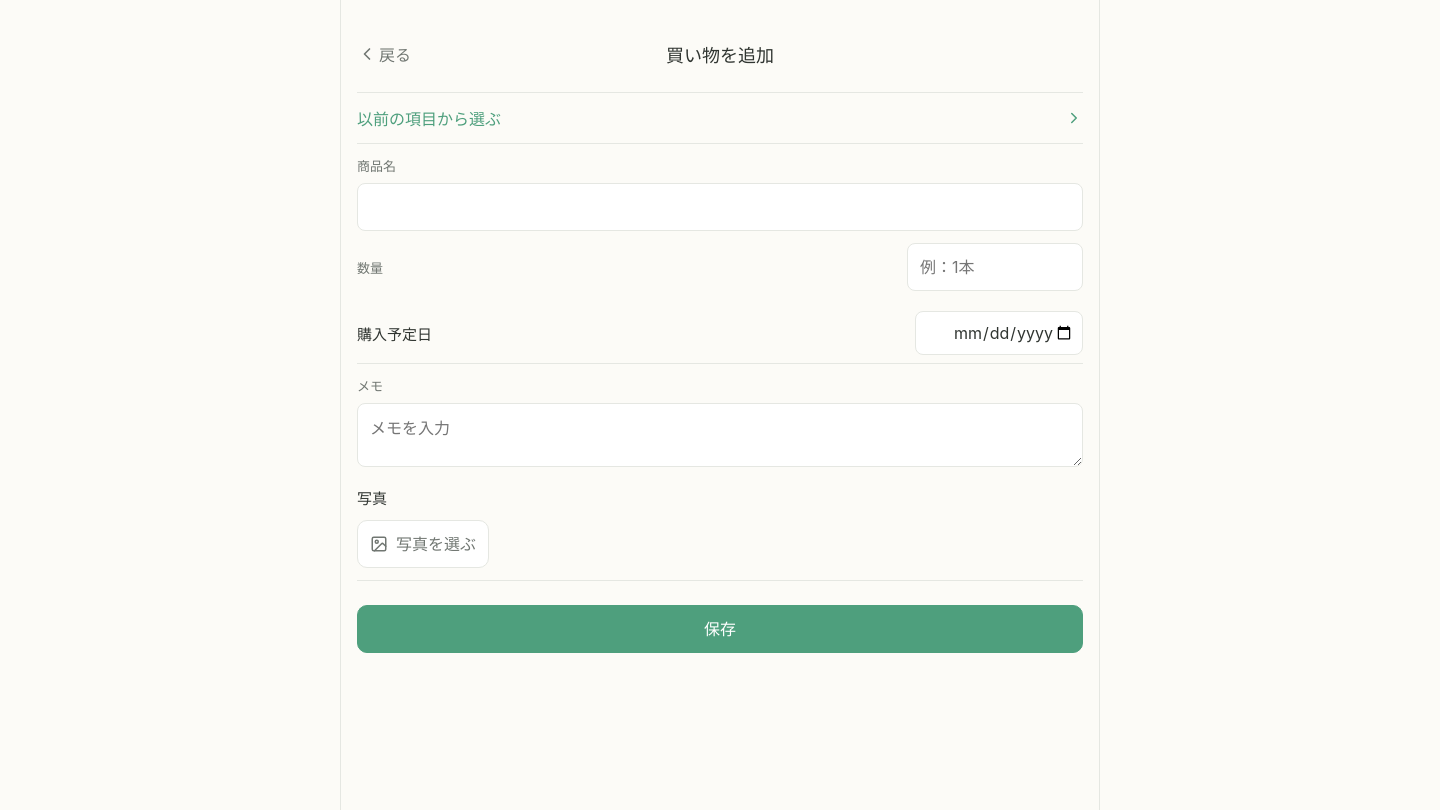
Test: App shopping UI › prefills shopping forms from recent items and templates without reusing image inputs
Click the button "以前の項目から選ぶ" at (429, 119), box [357,92,1083,144]
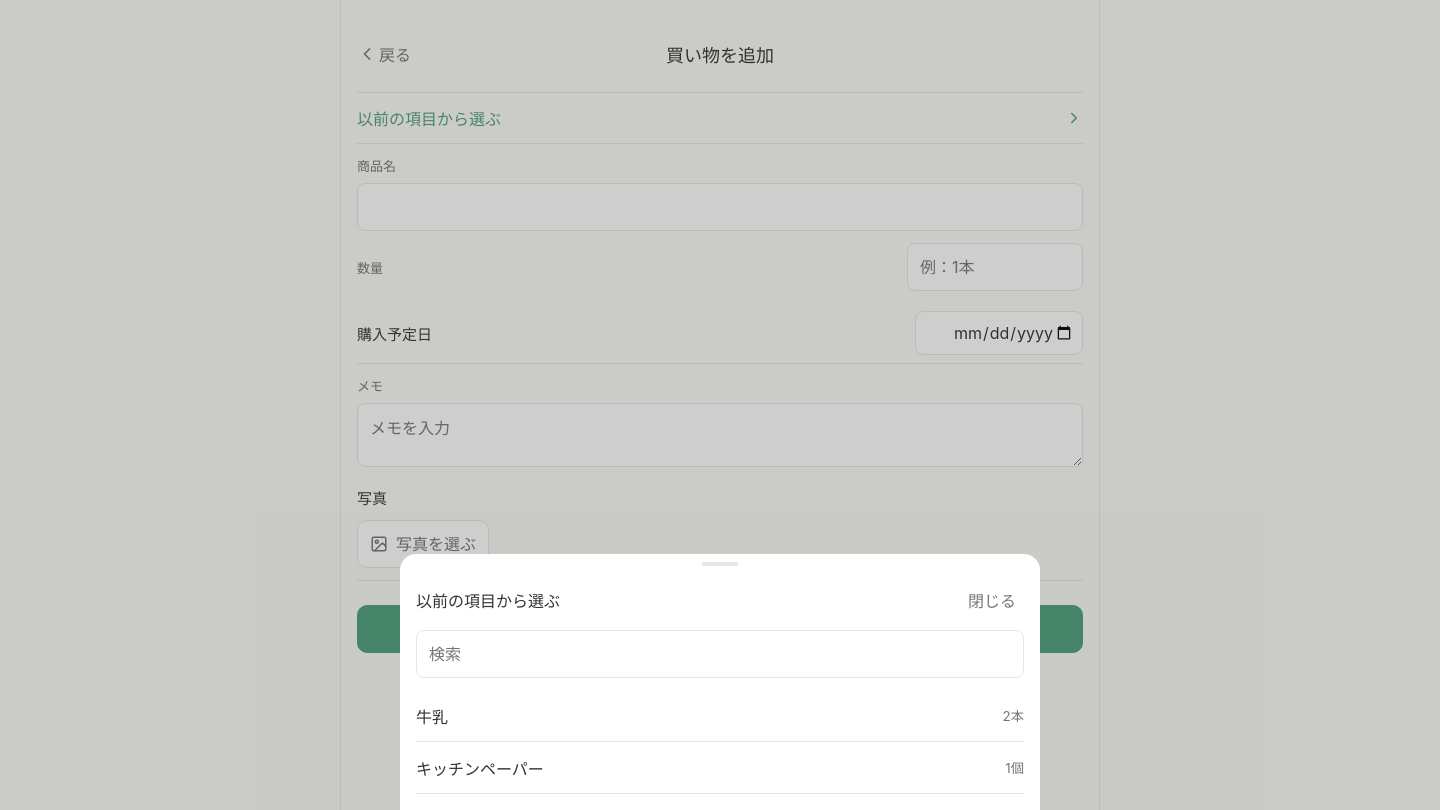
Check: the heading "以前の項目から選ぶ" is shown, box [416,588,560,612]
Click the button "牛乳 2本" at (432, 716), box [416,690,1024,742]
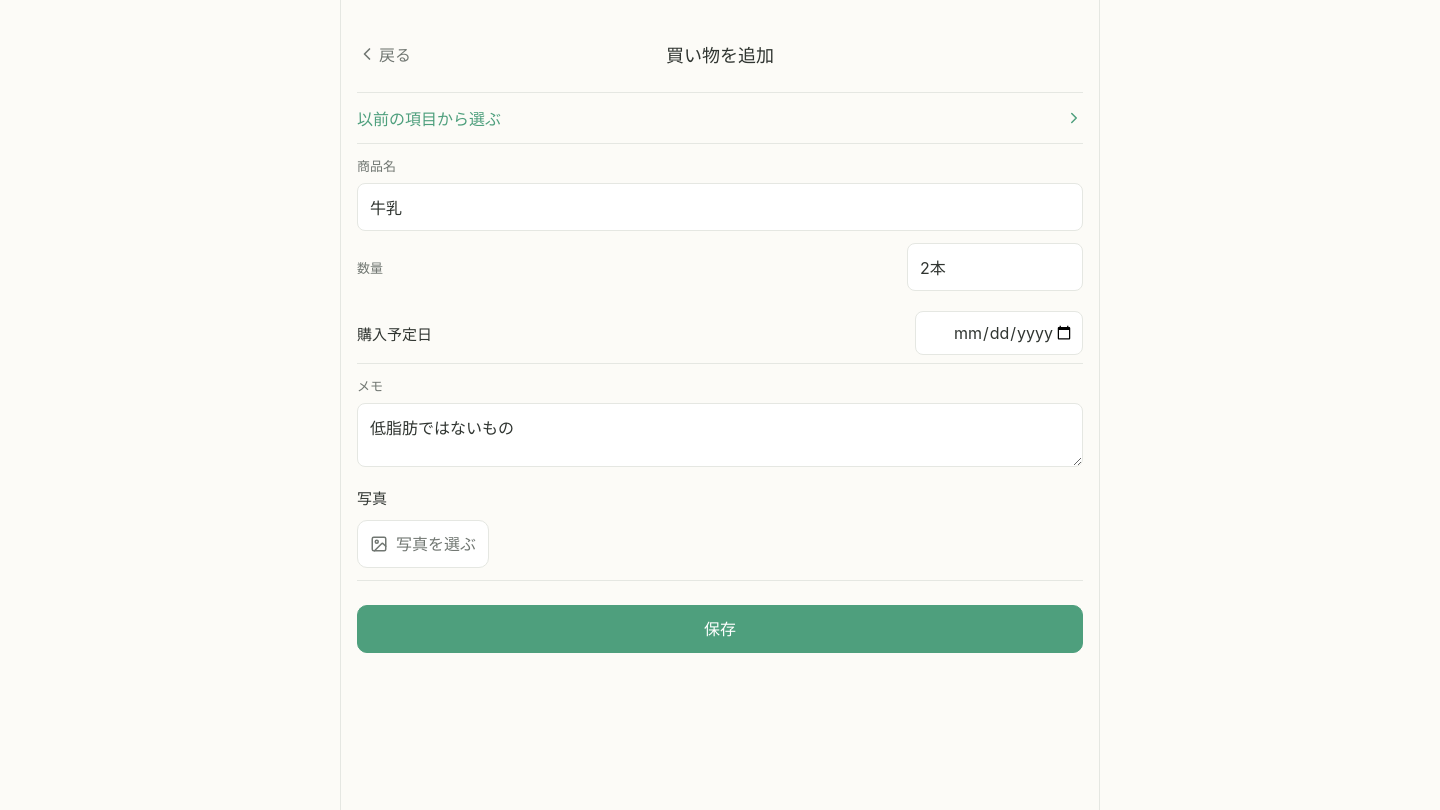
Check: the field with id "shopping-name" holds "牛乳", box [357,183,1083,231]
Check: the field with id "shopping-quantity" holds "2本", box [907,243,1083,291]
Check: the text box with id "shopping-note" holds "低脂肪ではないもの", box [357,403,1083,467]
Click the button "以前の項目から選ぶ" at (429, 119), box [357,92,1083,144]
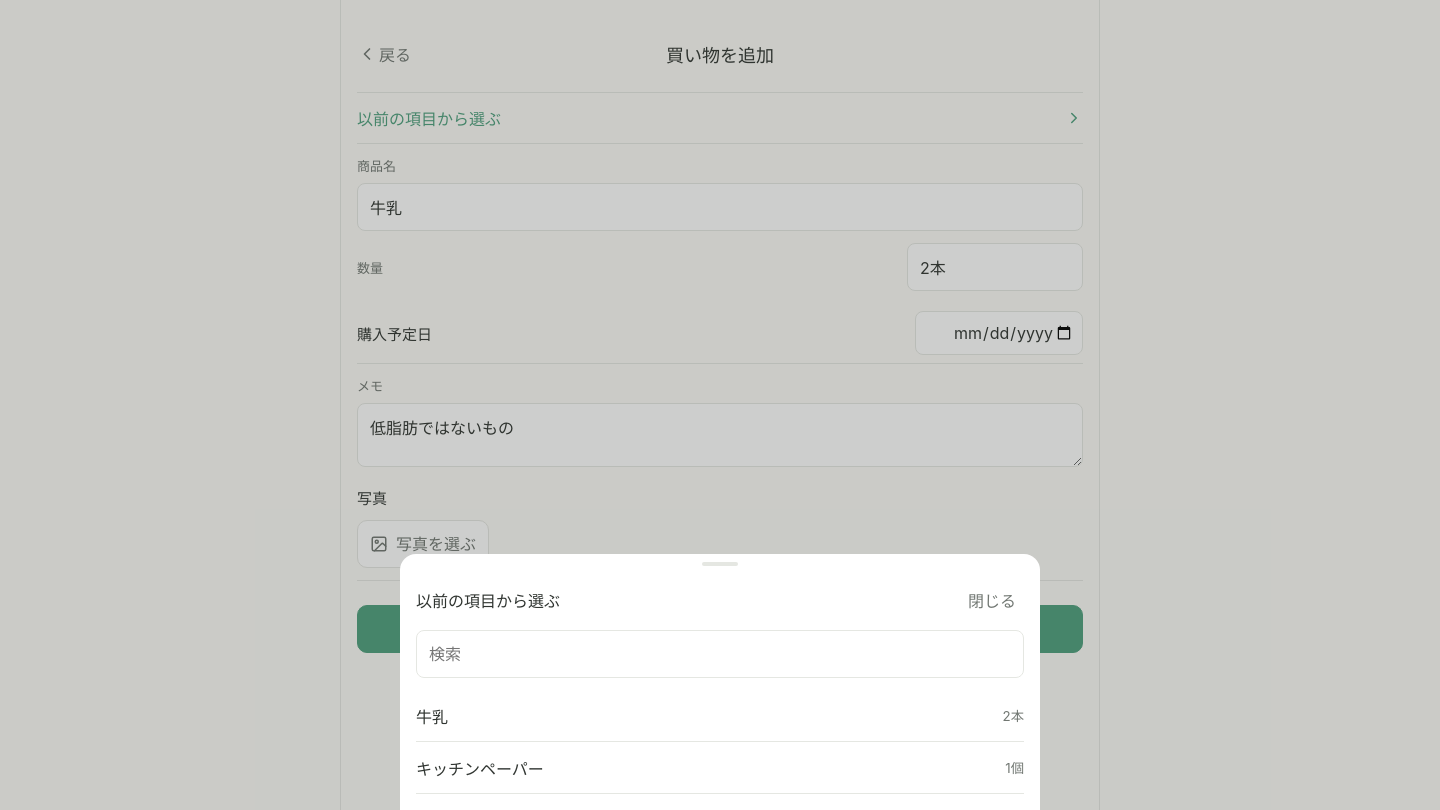
Click the button "キッチンペーパー 1個" at (480, 768), box [416,742,1024,794]
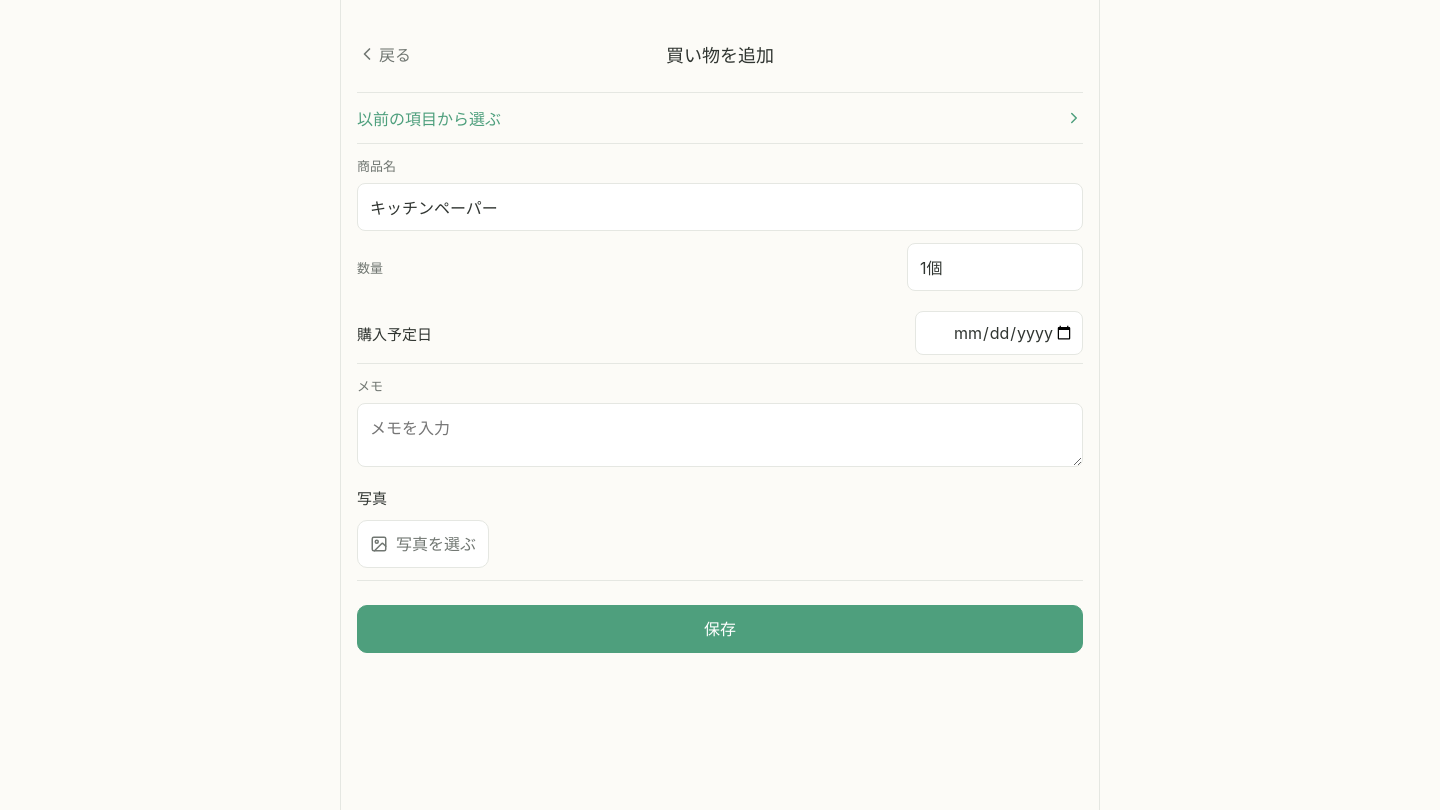
Check: the button "写真を選ぶ" is shown, box [357,520,489,568]
Check: the field with id "shopping-name" holds "キッチンペーパー", box [357,183,1083,231]
Check: the field with id "shopping-quantity" holds "1個", box [907,243,1083,291]
